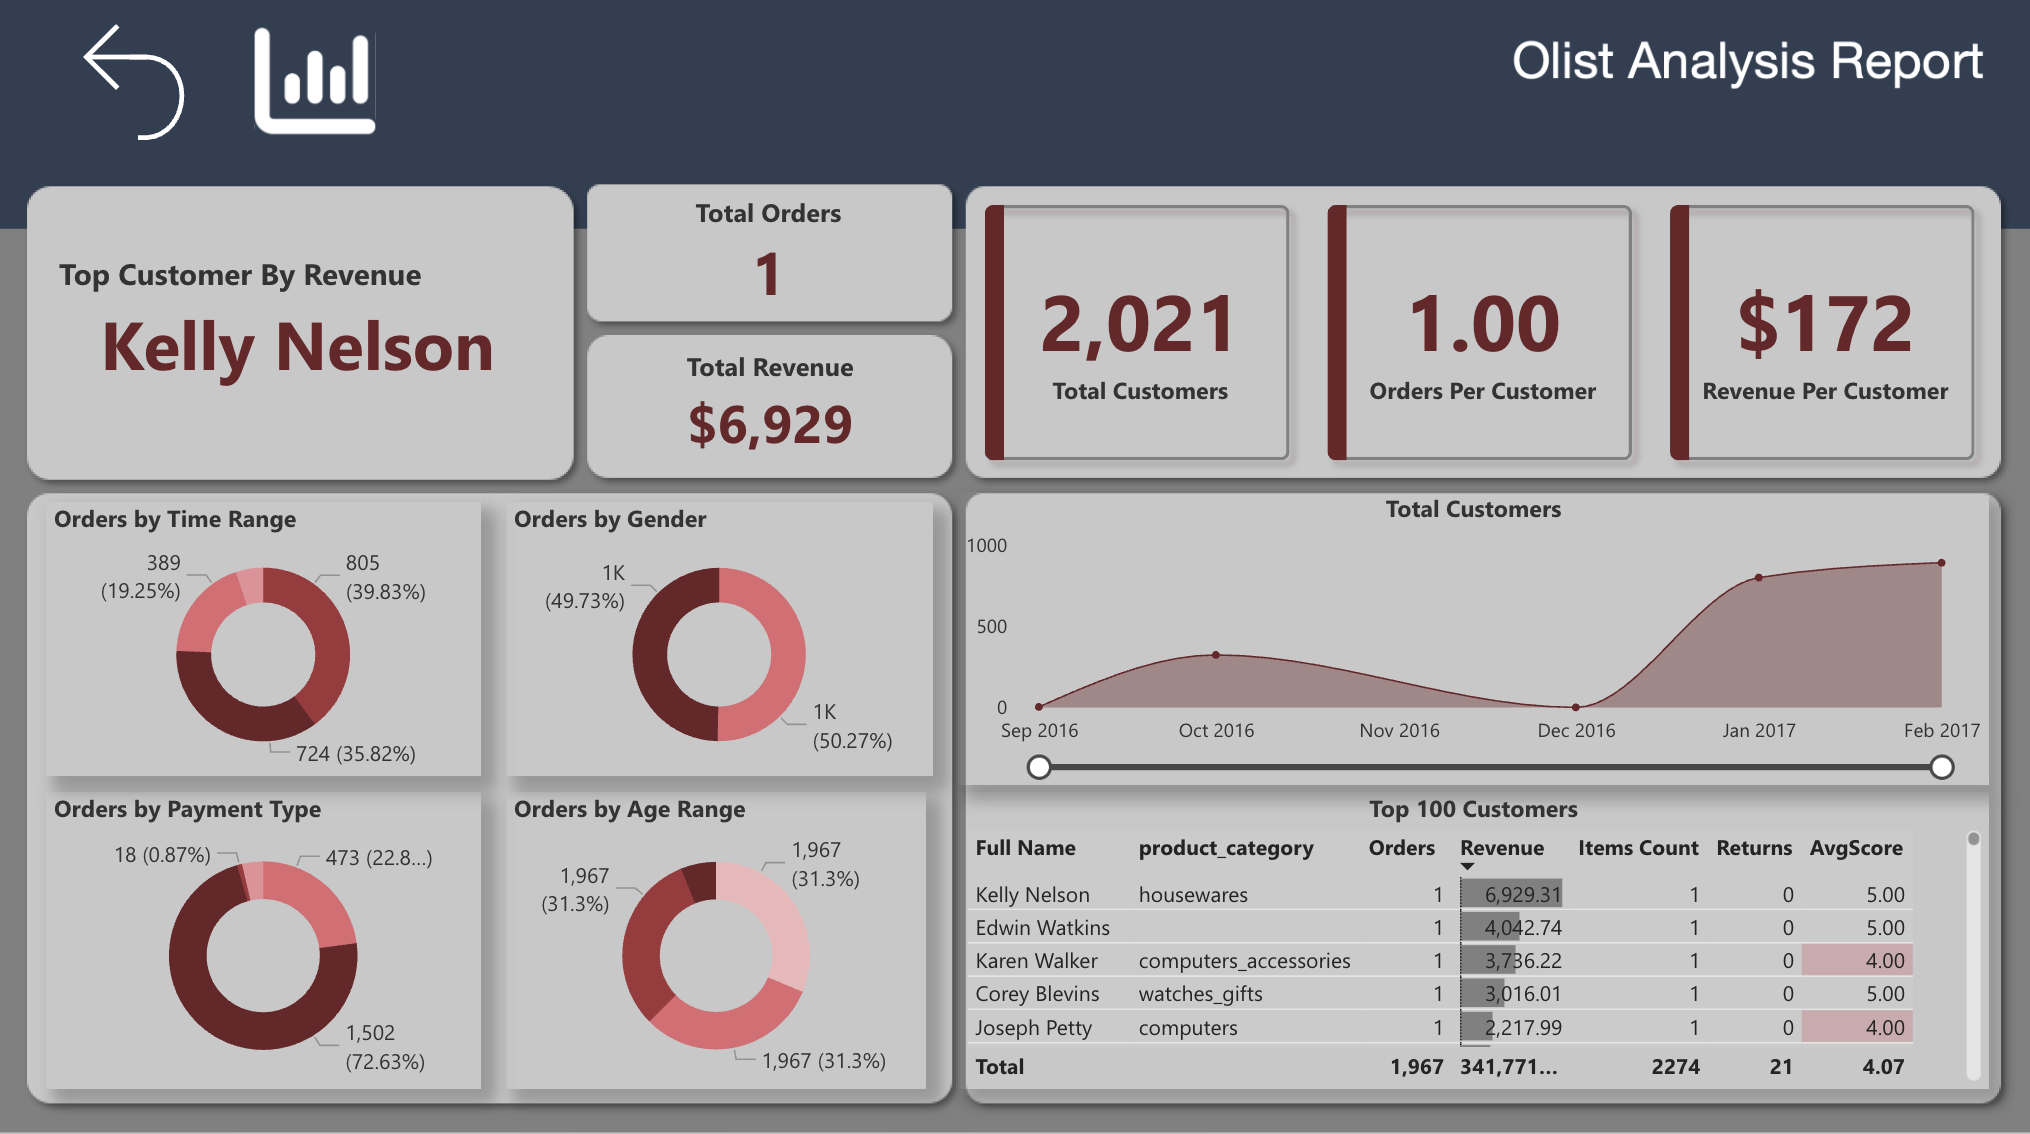

This screenshot's page, from the dashboard's own definition file:
{"tool":"powerbi","page":{"name":"Customer Detail","canvas":[1280,720],"ordinal":1},"visuals":[{"type":"cardVisual","fields":{"Data":["Measure Table.Total Customers","Measure Table.Avg Orders Per Customer","Measure Table.Avg Revenue Per Costomer"]},"box":[604.2,115.2,660.5,195.8],"z":0},{"type":"cardVisual","fields":{"Data":["Min(customer_bz.full_name)"]},"box":[20.5,110.1,335.4,189.4],"z":1000},{"type":"cardVisual","fields":{"Data":["Measure Table.Total Orders"]},"box":[375,110.1,220.2,103.7],"z":2000},{"type":"cardVisual","fields":{"Data":["Measure Table.Total Revenue"]},"box":[386.6,212.5,197.1,89.6],"z":3000},{"type":"donutChart","title":"Orders by Time Range","fields":{"Category":["Time_Table.TimeRange"],"Y":["Measure Table.Total Orders"]},"box":[29.4,318.7,273.9,172.8],"z":4000},{"type":"donutChart","title":"Orders by Gender","fields":{"Y":["Measure Table.Total Orders"],"Category":["customer_bz.gender"]},"box":[318.7,318.7,268.8,172.8],"z":5000},{"type":"donutChart","title":"Orders by Payment Type","fields":{"Category":["payment_gl.payment_type"],"Y":["Measure Table.Total Orders"]},"box":[29.4,501.8,273.9,186.9],"z":6000},{"type":"donutChart","title":"Orders by Age Range","fields":{"Y":["Measure Table.Order Count By 18 – 25","Measure Table.Order Count By 26 – 40","Measure Table.Order Count By 41 – 60","Measure Table.Order Count By 61-"]},"box":[318.7,501.8,265,186.9],"z":7000},{"type":"areaChart","title":"Total Customers","fields":{"Category":["Date_Table.Date Hierarchy.Year","Date_Table.Date Hierarchy.StartOfMonth","Date_Table.Date Hierarchy.StartOfWeek","Date_Table.Date Hierarchy.Date"],"Y":["Measure Table.Total Customers"]},"box":[604.2,312.3,650.2,184.3],"z":8000},{"type":"tableEx","title":"Top 100 Customers","fields":{"Values":["customer_bz.full_name","product_category_bz.product_category_name_english","Measure Table.Total Orders","Measure Table.Total Revenue","Measure Table.Items Count","Measure Table.Total Returns","Measure Table.AvgScore"]},"box":[604.2,501.8,650.2,186.9],"z":9000},{"type":"actionButton","box":[156.2,11.5,102.4,84.5],"z":10000},{"type":"actionButton","box":[39.7,9,110.1,90.9],"z":11000}]}

Visuals, with their boxes in screenshot pixels (x1, y1, x2, y2), scaled from the page's 1280x720 canvas onto the 2030x1134 screenshot:
cardVisual - Measure Table.Total Customers x Measure Table.Avg Orders Per Customer: <bbox>958, 181, 2006, 490</bbox>
cardVisual - Min(customer_bz.full_name): <bbox>33, 173, 564, 472</bbox>
cardVisual - Measure Table.Total Orders: <bbox>595, 173, 944, 337</bbox>
cardVisual - Measure Table.Total Revenue: <bbox>613, 335, 926, 476</bbox>
"Orders by Time Range" donutChart: <bbox>47, 502, 481, 774</bbox>
"Orders by Gender" donutChart: <bbox>505, 502, 932, 774</bbox>
"Orders by Payment Type" donutChart: <bbox>47, 790, 481, 1085</bbox>
"Orders by Age Range" donutChart: <bbox>505, 790, 926, 1085</bbox>
"Total Customers" areaChart: <bbox>958, 492, 1989, 782</bbox>
"Top 100 Customers" tableEx: <bbox>958, 790, 1989, 1085</bbox>
actionButton: <bbox>248, 18, 410, 151</bbox>
actionButton: <bbox>63, 14, 238, 157</bbox>
